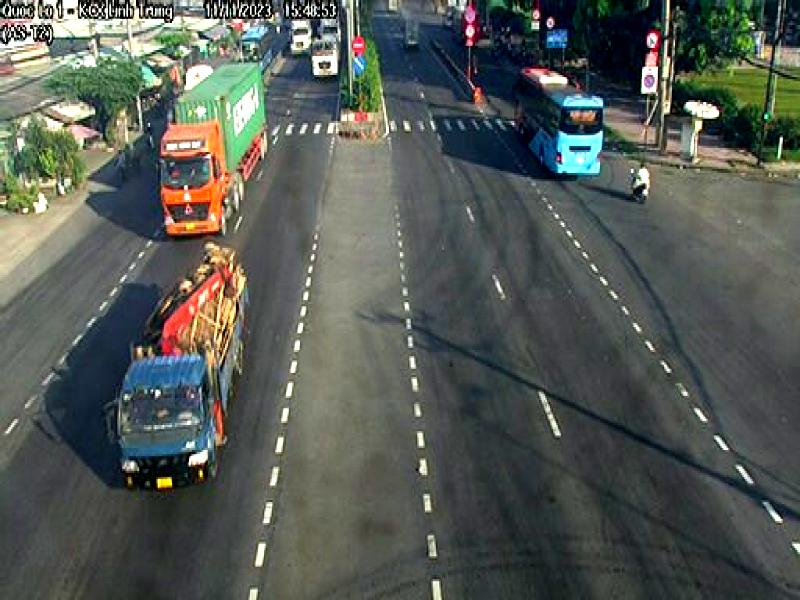bus: (513, 65, 605, 177)
truck: (118, 244, 249, 490), (157, 59, 269, 237)
